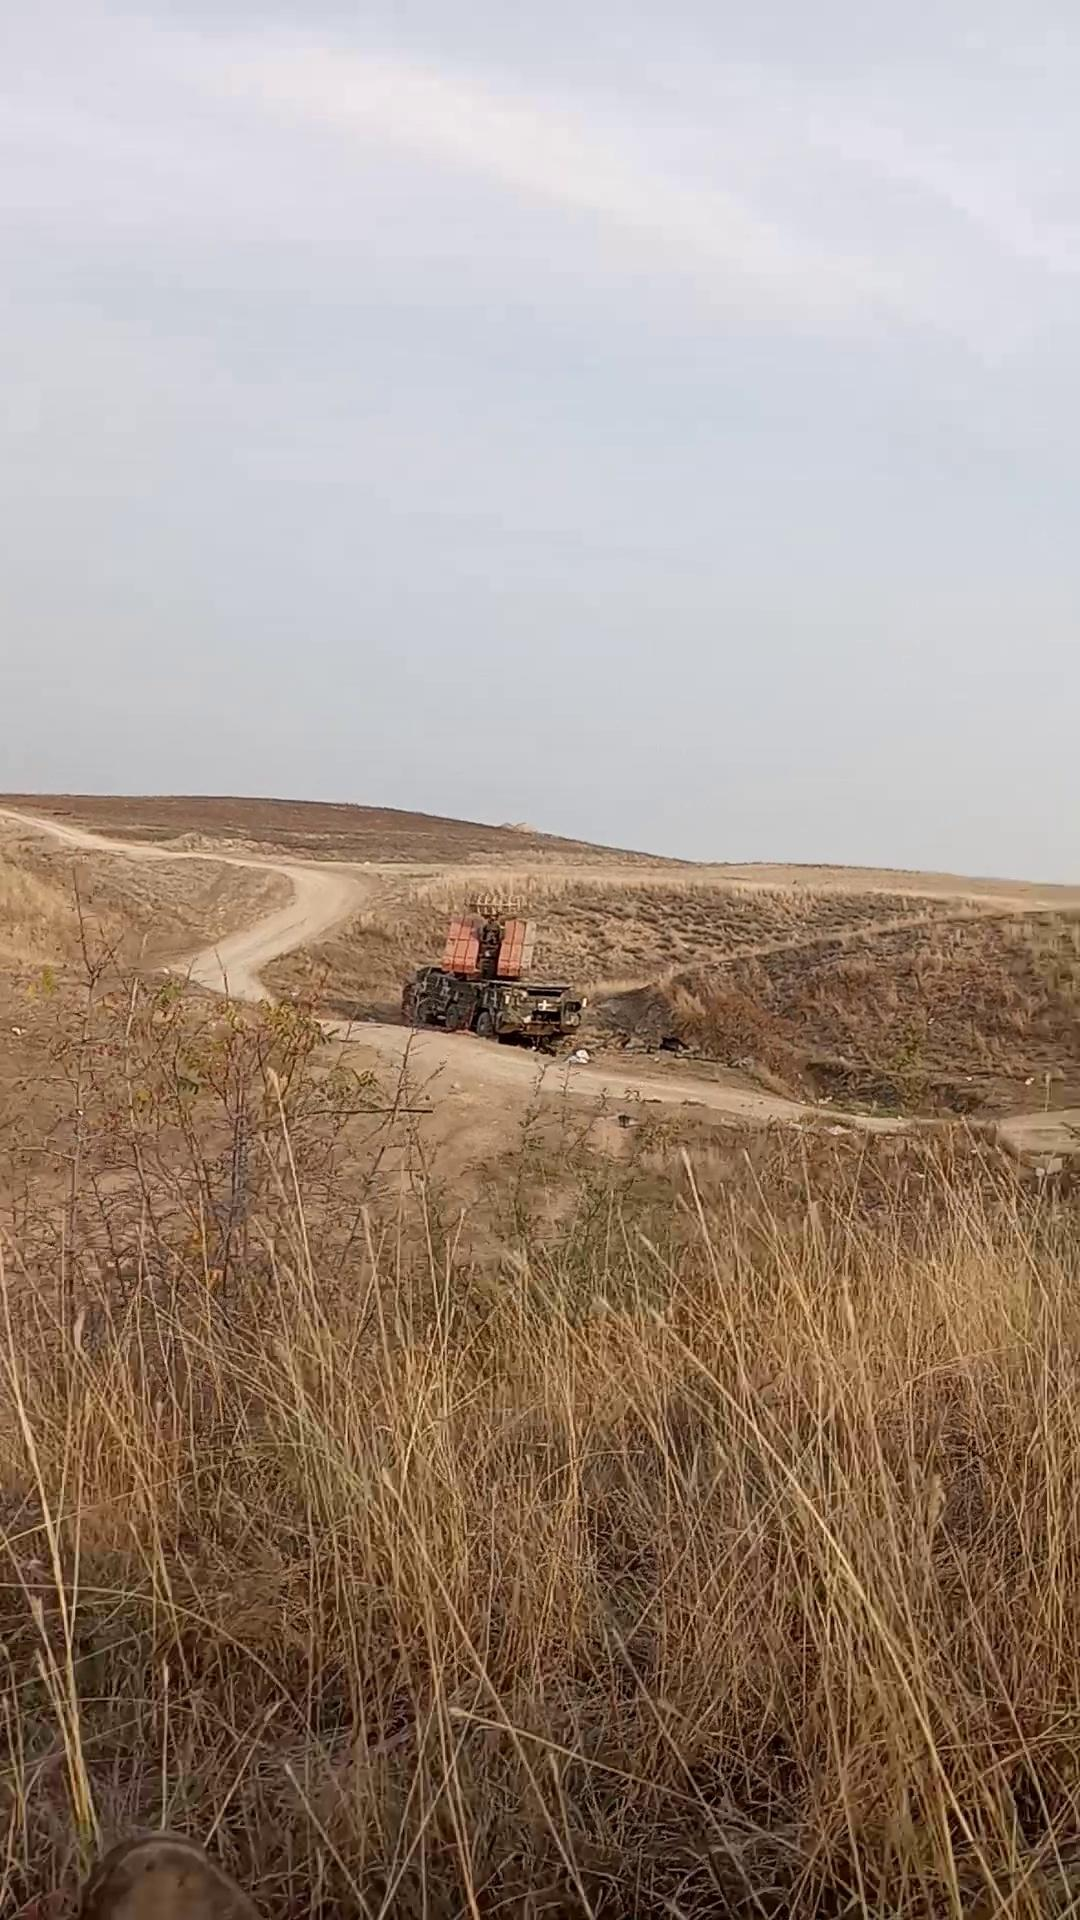MIL_SAM_TEL: (398, 894, 593, 1055)
